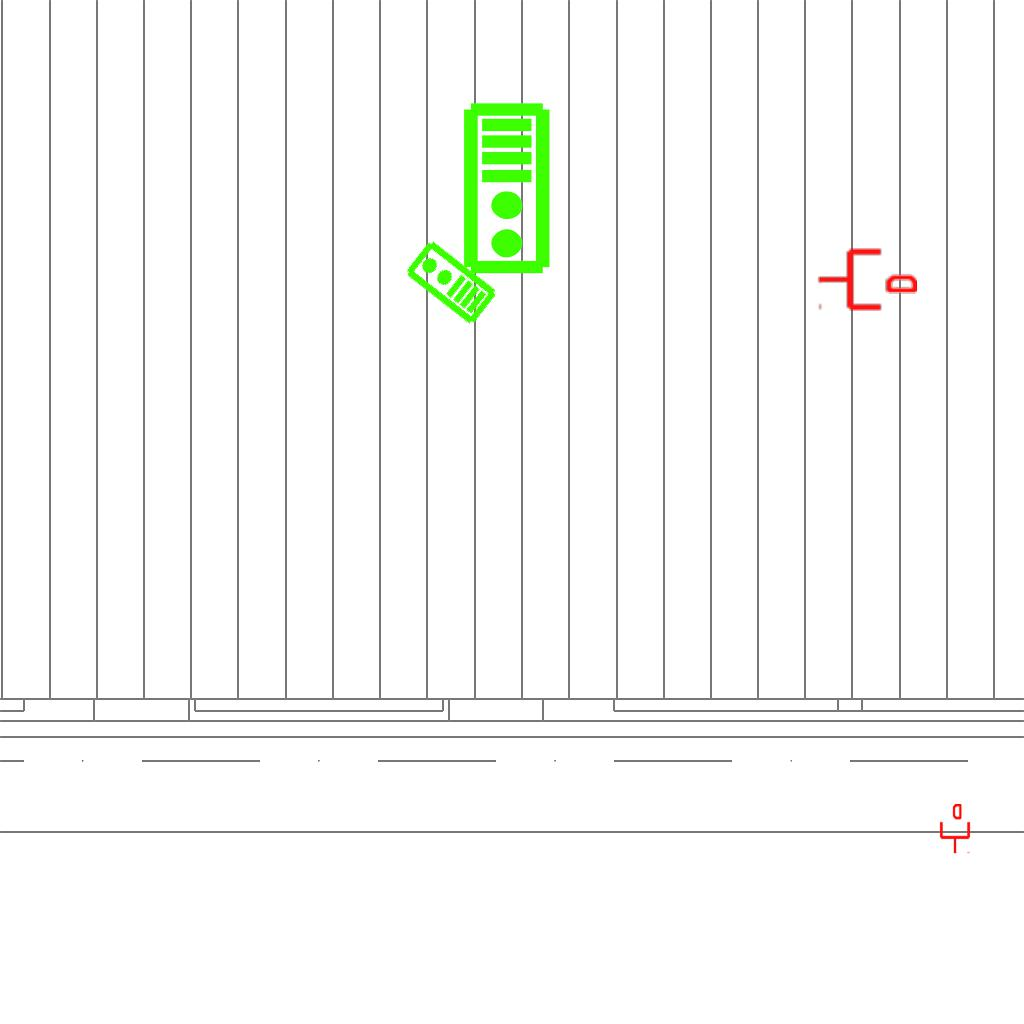Datenanschluss_einfach: (817, 245, 917, 314), (938, 804, 972, 854)
Gegensprechanlage_mit_Video: (461, 101, 556, 277), (401, 237, 500, 329)
